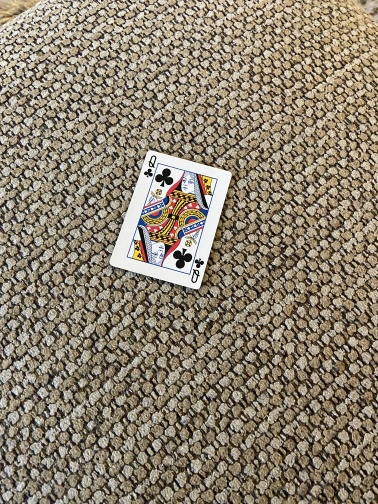queen: (108, 149, 234, 291)
